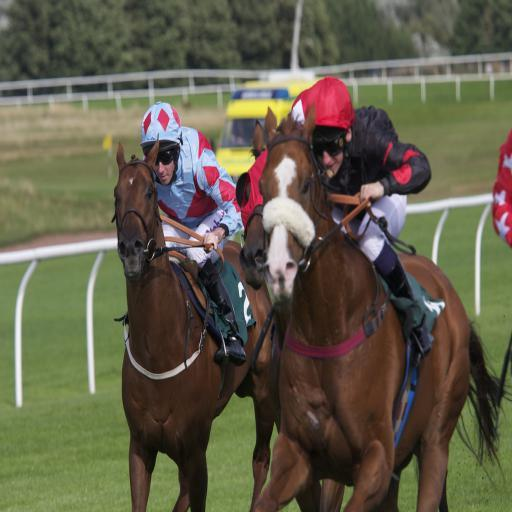Horse: (252, 102, 512, 512), (239, 119, 447, 512), (112, 133, 276, 512), (236, 113, 346, 511)
